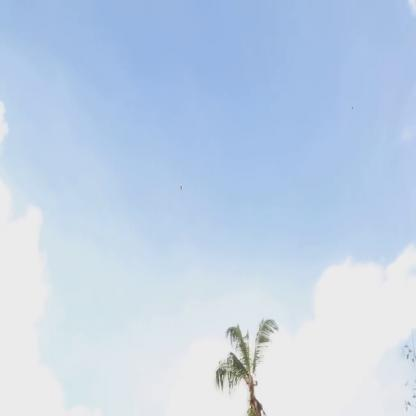drone: (179, 184, 183, 191)
